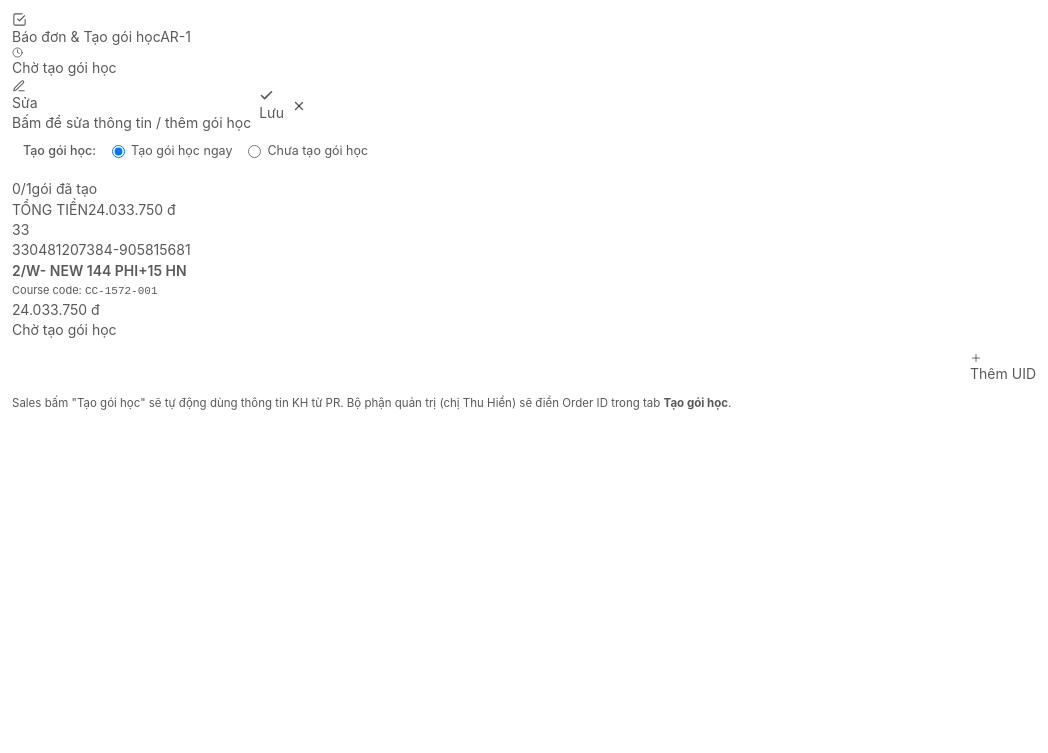
ActiveRequestMiniCardV2 — sửa AR (fix lag 9/9: draft cục bộ + thoát form ngay) › A: Lưu thoát form NGAY, không chờ promise save resolve
Click the button with aria-label "Sửa thông tin gói học": [25, 96] box top-left (12, 79), bottom-right (38, 113)
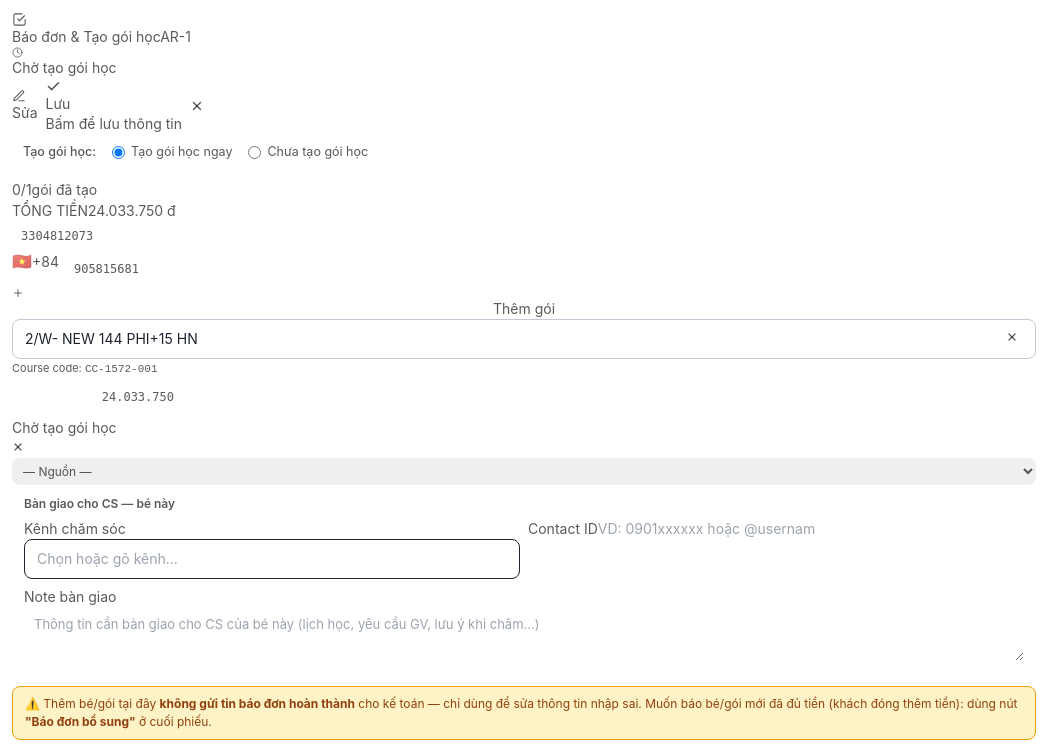
Click the button with aria-label "Lưu thông tin Active Request": [58, 96] box top-left (46, 79), bottom-right (70, 114)
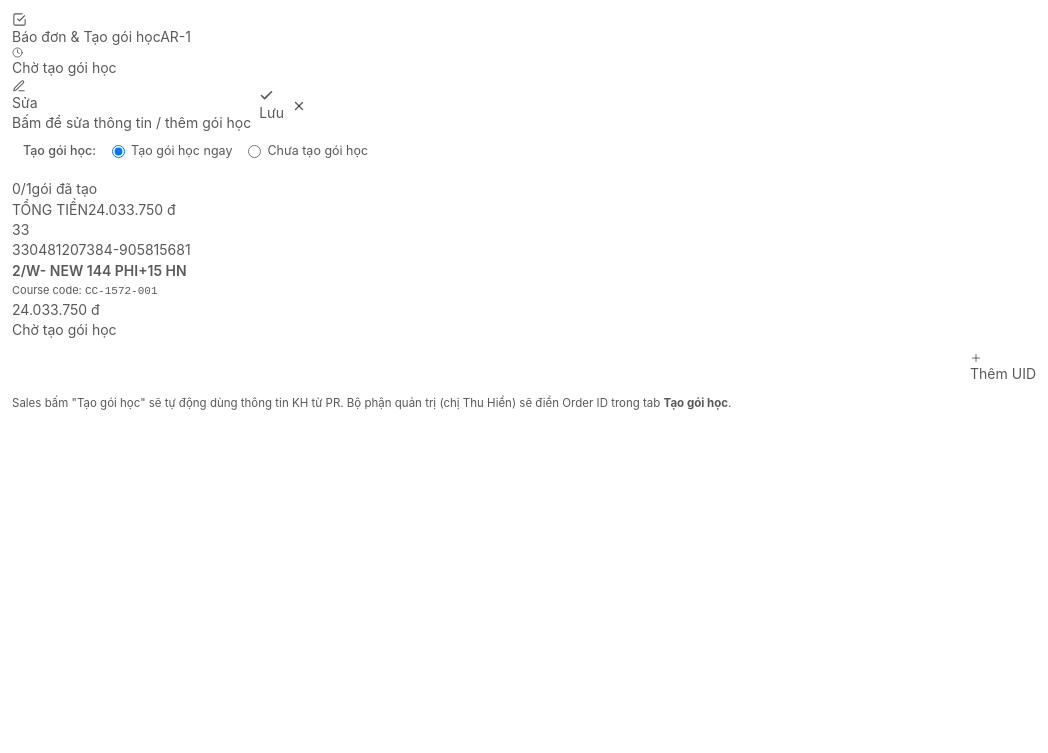
Result: the button with aria-label "Lưu thông tin Active Request" is disabled at top-left (259, 88), bottom-right (284, 124)
